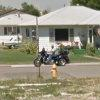Motorcycle: (28, 43, 75, 67)
